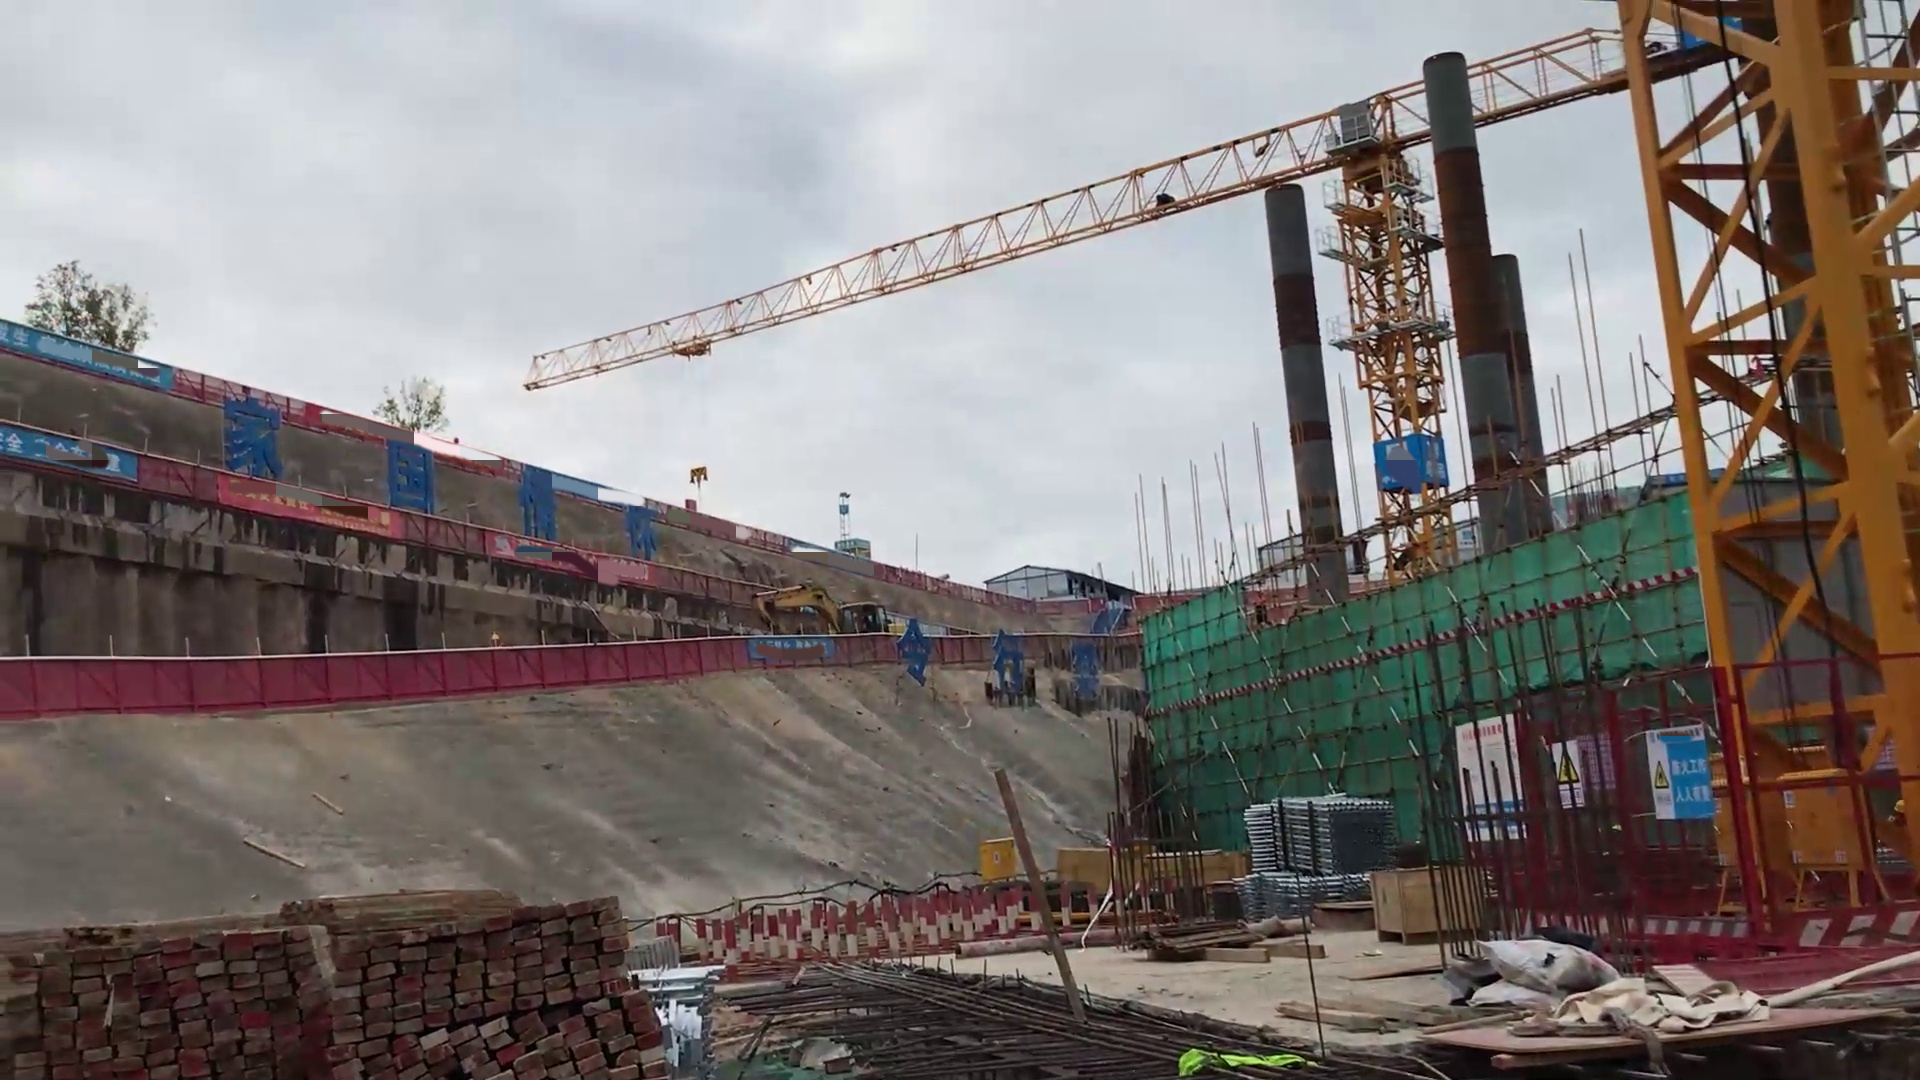ebox: (1782, 762, 1884, 916), (1708, 746, 1789, 920), (982, 836, 1017, 885)
fence: (1, 647, 211, 735)
hook: (688, 465, 709, 489)
scaffold: (1247, 786, 1404, 876)
slogan: (211, 467, 407, 541), (1640, 717, 1721, 833), (1456, 713, 1522, 844), (1548, 724, 1592, 815)
wood: (1, 856, 647, 1080), (1367, 865, 1501, 960), (1159, 845, 1255, 889)
